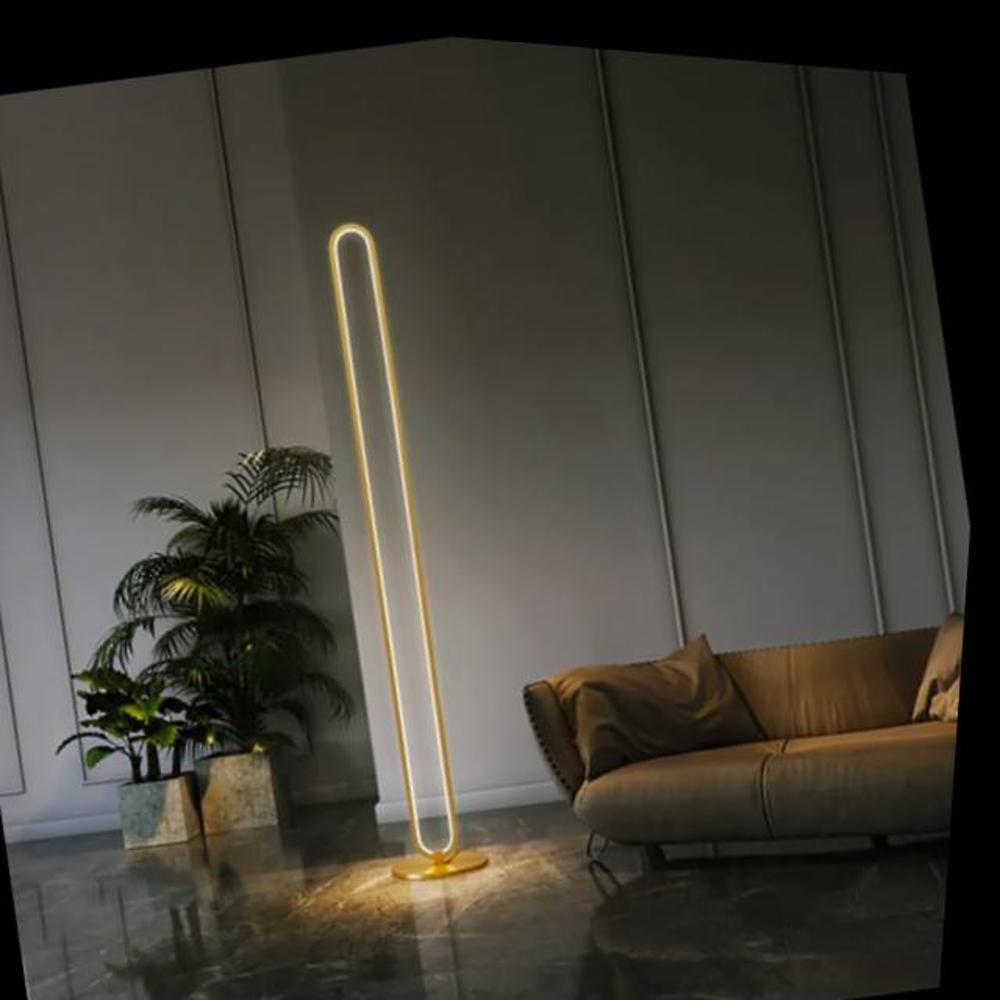shelf: (250, 131, 595, 914)
